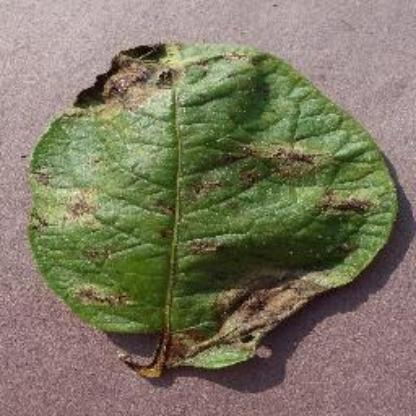Late-Blight: (28, 35, 402, 380)
